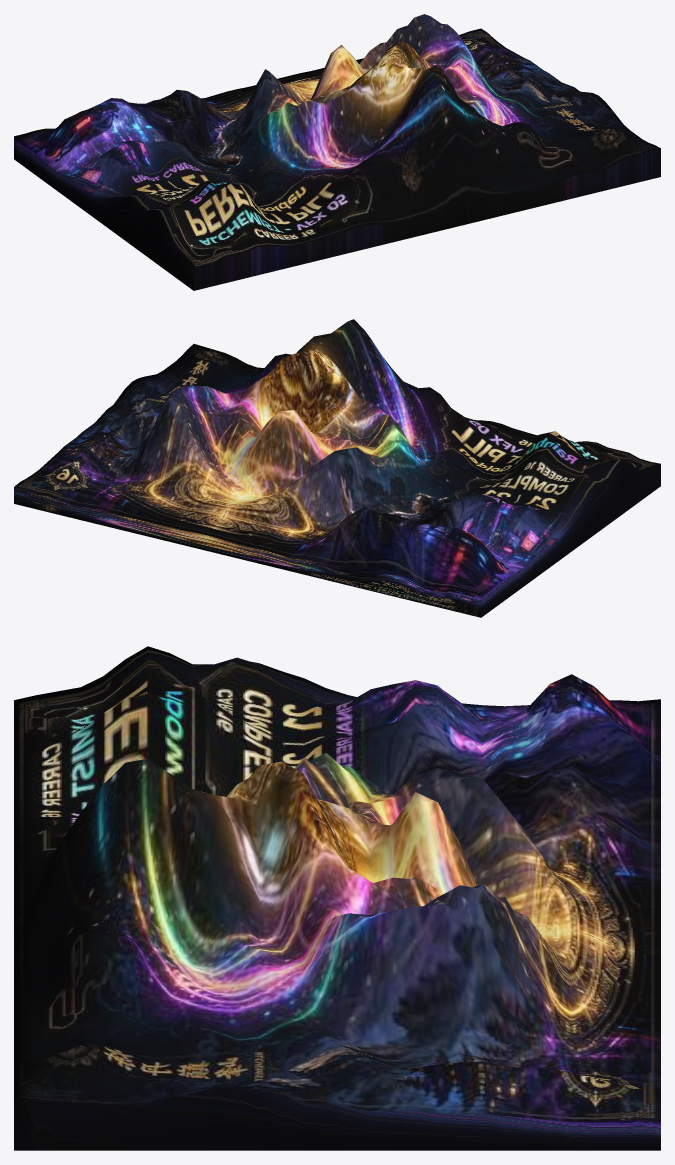
Rendered from CAREER_16_VFX_05_Perfect.glb.
3 views of the same model, one above another, from view 1: azimuth 30°, elevation 25°; view 2: azimuth 150°, elevation 25°; view 3: azimuth 270°, elevation 25° (orthographic). The views are drawn at different scales.
Visible parts, largest first — view 1: CAREER_16_VFX_05_Perfect; view 2: CAREER_16_VFX_05_Perfect; view 3: CAREER_16_VFX_05_Perfect.
Boxes of the visible parts, left/top/right/bottom form: CAREER_16_VFX_05_Perfect: left=14, top=14, right=660, bottom=290; CAREER_16_VFX_05_Perfect: left=14, top=319, right=660, bottom=617; CAREER_16_VFX_05_Perfect: left=14, top=646, right=660, bottom=1150.
Bounding box in the file's own units: 2 × 0.51 × 1.33.
1 material, 1 textured.
